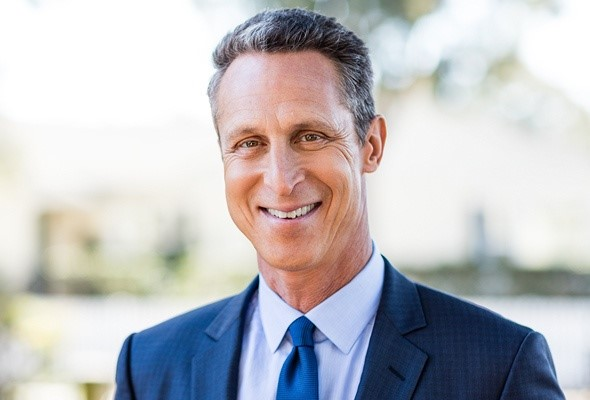face_no_mask: (207, 10, 385, 271)
